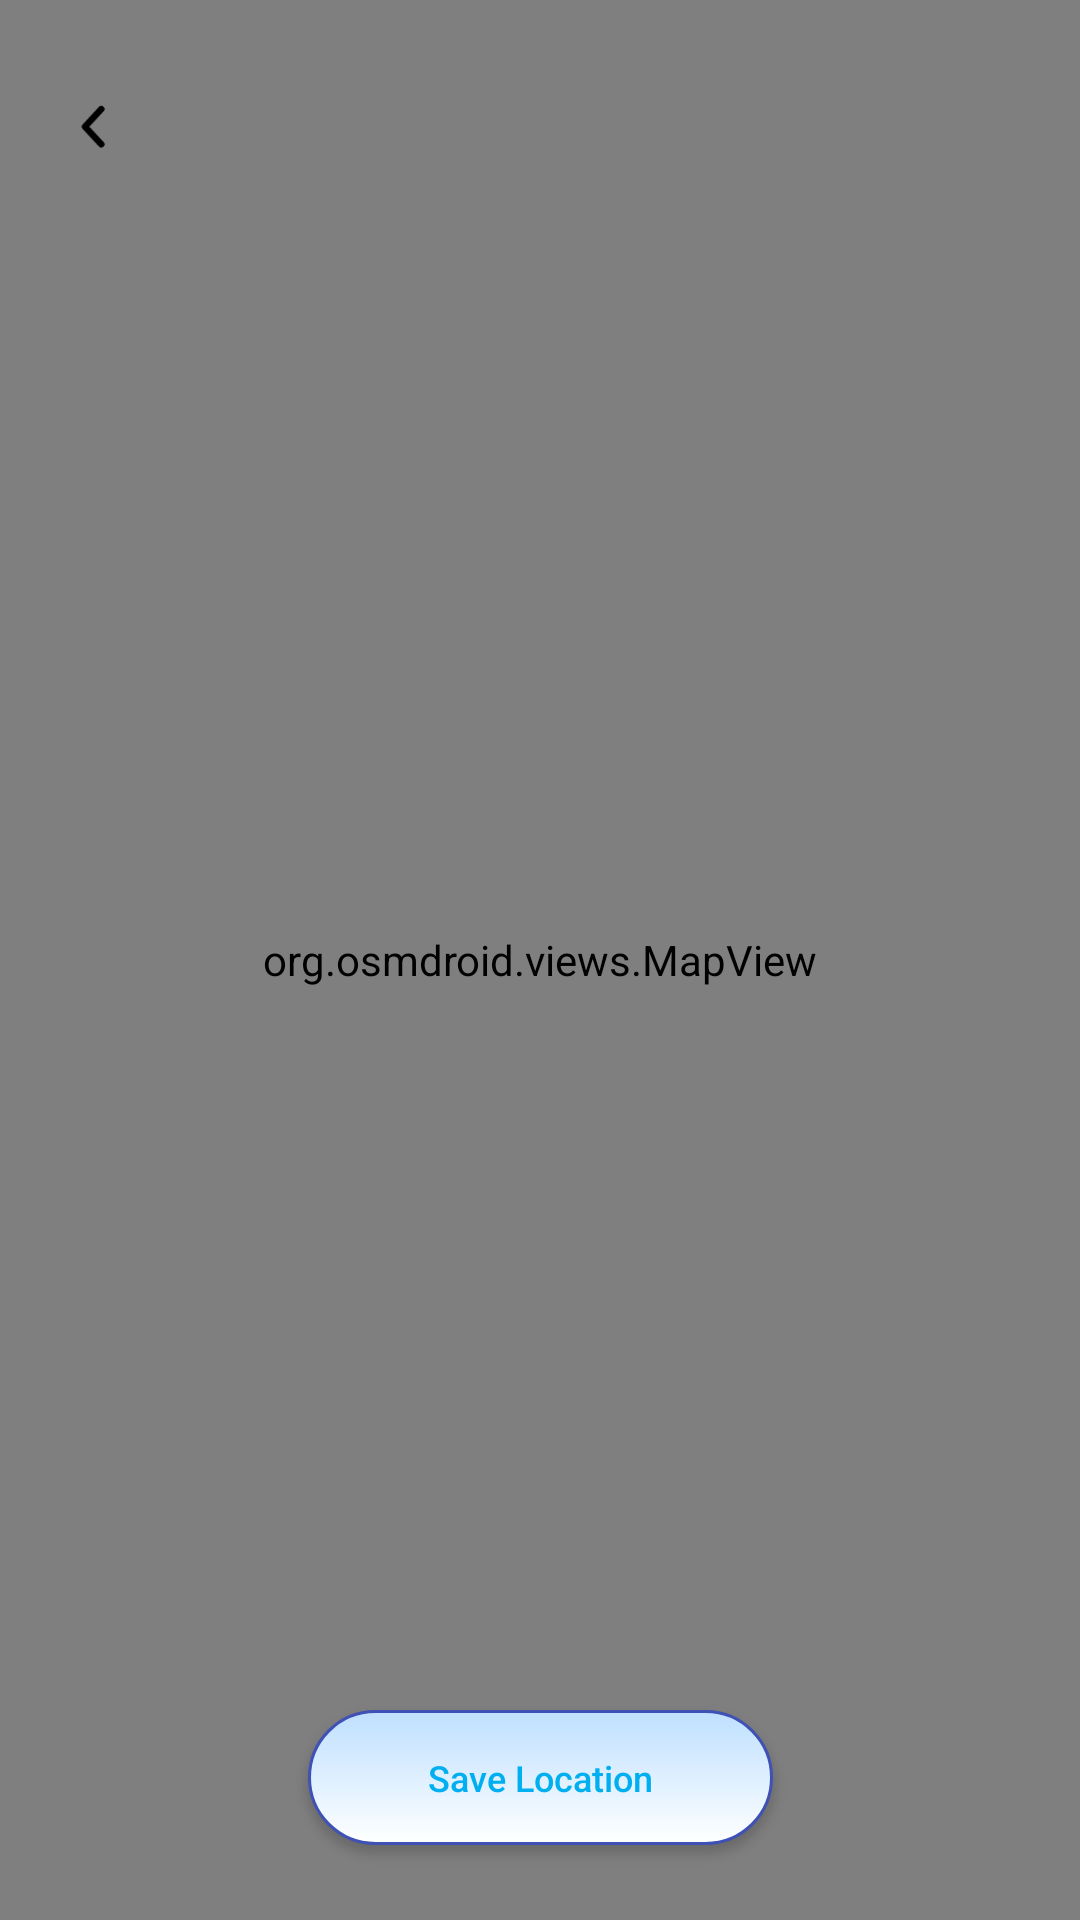

Where icons sit on this 1080*1920 app screen, as (x1, y1, x2, y2):
Back button: (81, 105, 105, 148)
